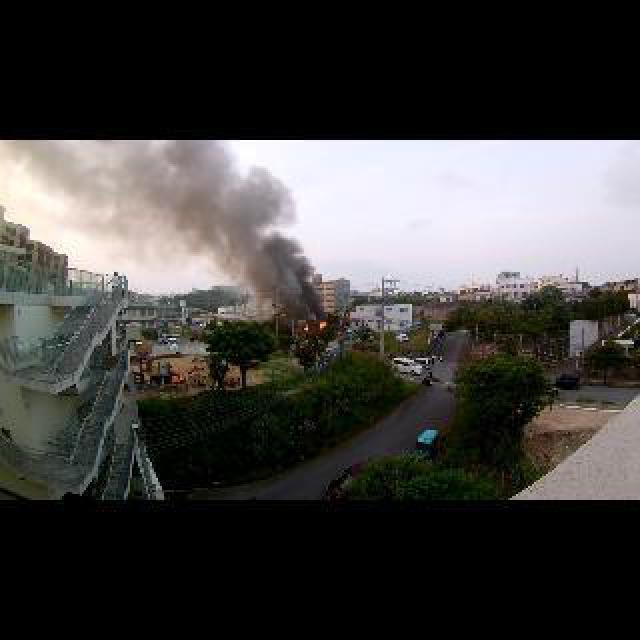Fire: (322, 318, 330, 326), (304, 324, 312, 332)
Smoke: (45, 142, 241, 246), (226, 192, 320, 316)
